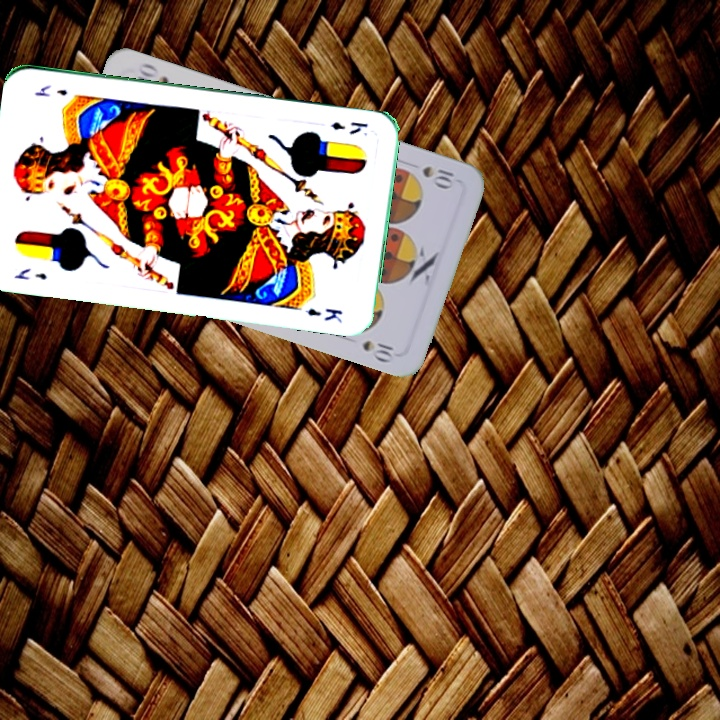EK: (327, 118, 371, 137), (10, 264, 50, 282)
S10: (418, 162, 457, 190)
